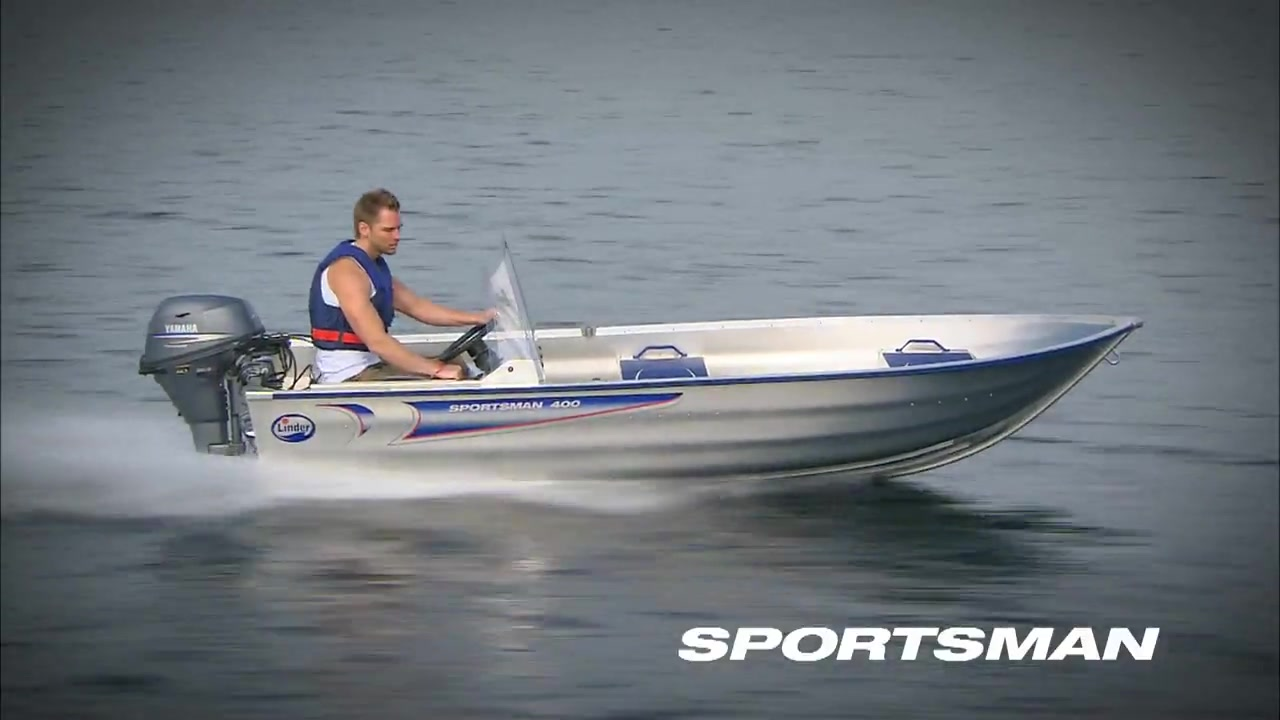boat: (134, 240, 1156, 498)
